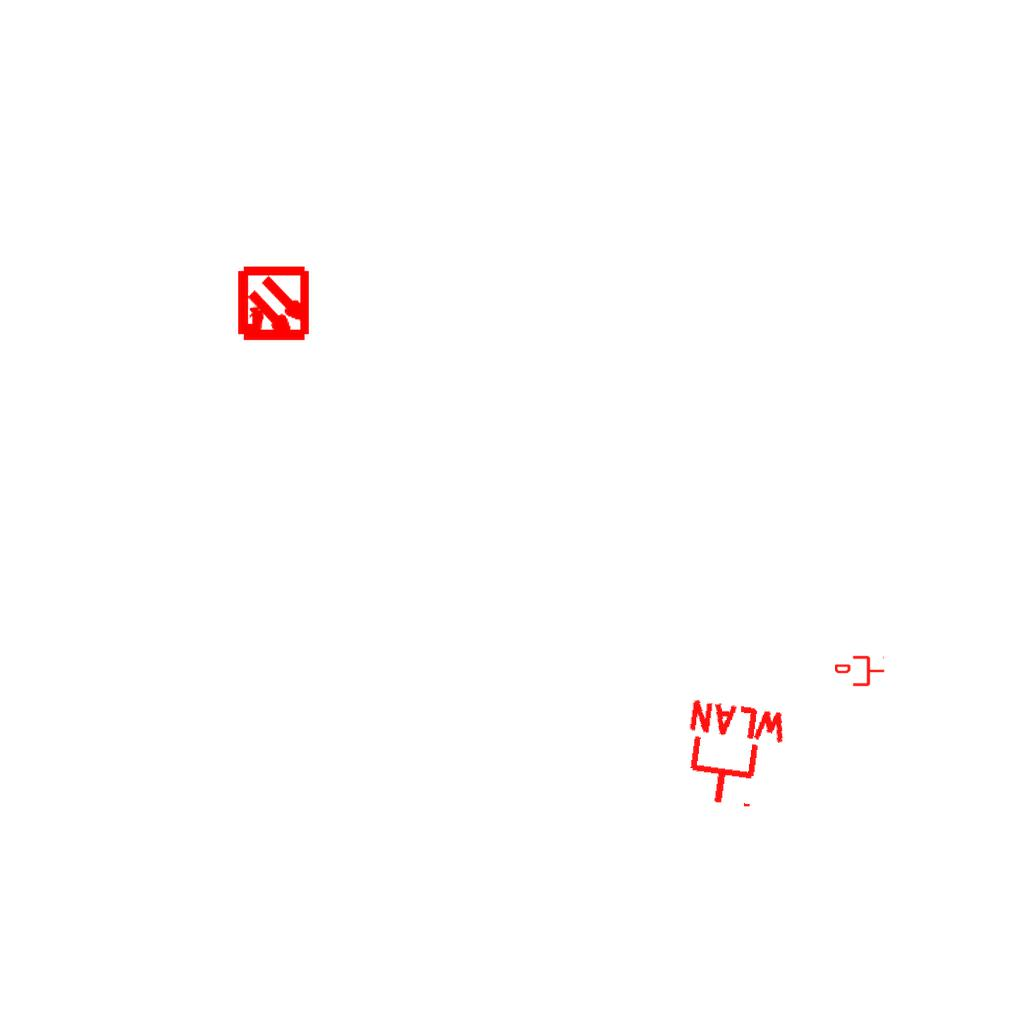Datenanschluss_einfach: (835, 654, 885, 688)
OT_Multisensormelder_(Kombination_RMO_WMD): (217, 249, 330, 362)
WLAN: (674, 696, 793, 816)
